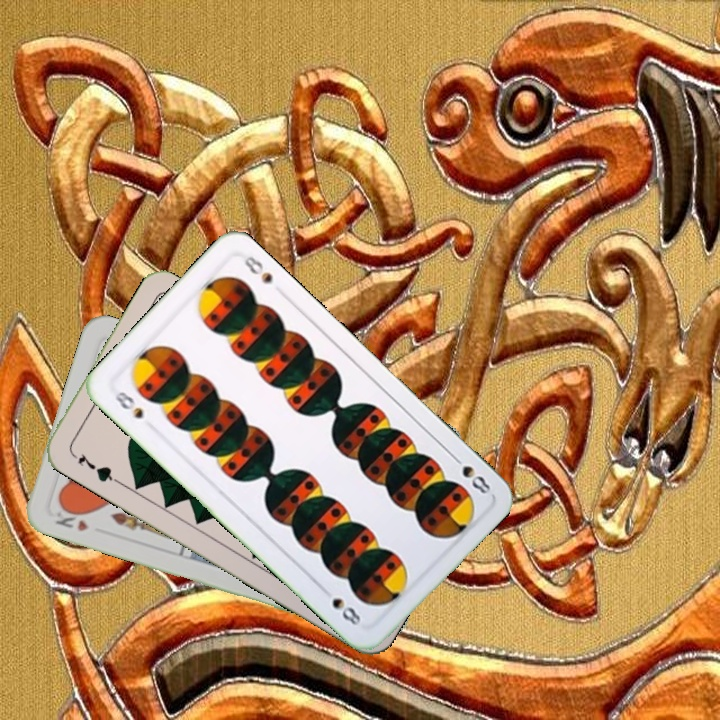G7: (67, 448, 120, 485)
HK: (51, 502, 91, 535)
S8: (446, 450, 493, 497), (109, 387, 146, 422)
